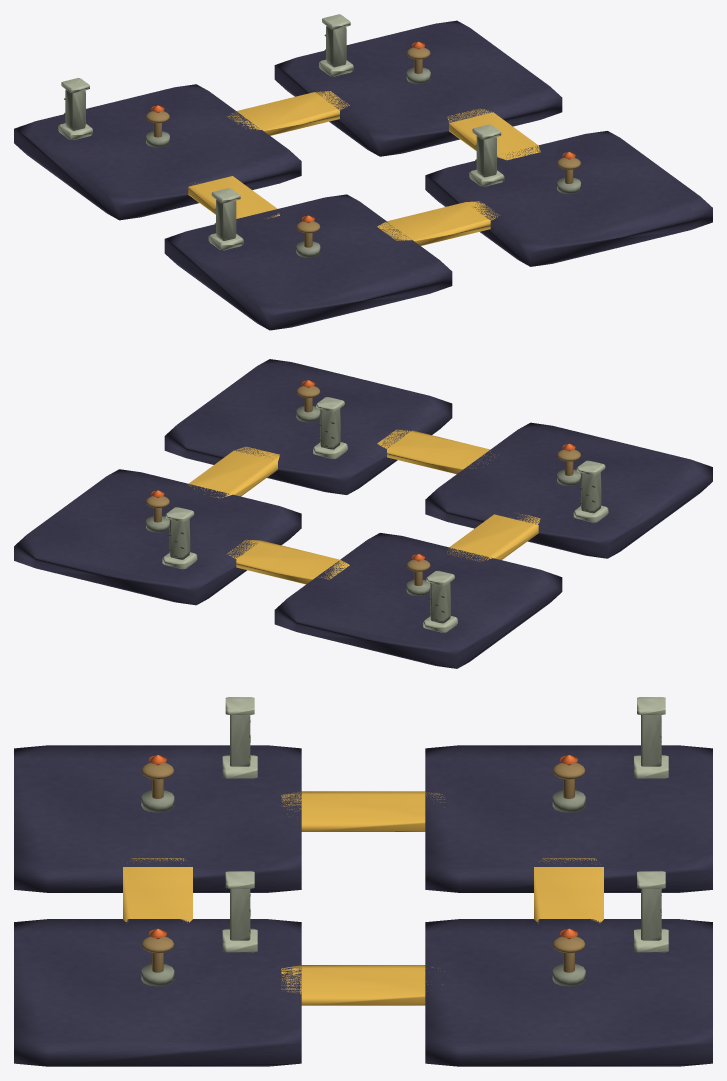
The model's file is hollow_sun_arena.glb.
The picture shows the model from 3 angles, top to bottom: view 1: azimuth 30°, elevation 25°; view 2: azimuth 150°, elevation 25°; view 3: azimuth 270°, elevation 25°; orthographic projection. The views are drawn at different scales.
Visible parts, largest first — view 1: hollow_sun_arena_StaticBatch; view 2: hollow_sun_arena_StaticBatch; view 3: hollow_sun_arena_StaticBatch.
Boxes of the visible parts, x1,y1,x2,y2 form: hollow_sun_arena_StaticBatch: (14,14,712,330); hollow_sun_arena_StaticBatch: (14,359,712,668); hollow_sun_arena_StaticBatch: (14,697,712,1066).
Bounding box in the file's own units: 17 × 2.53 × 17.
Materials: 1 (1 with a texture image).
